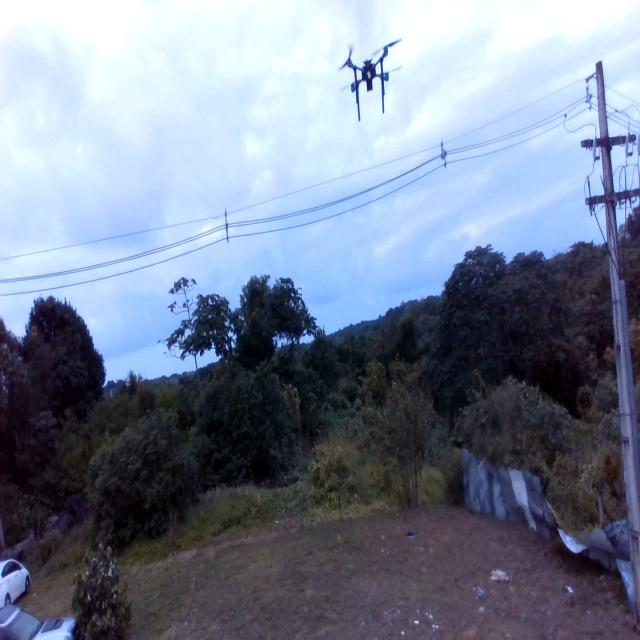-uav-: (328, 32, 412, 132)
